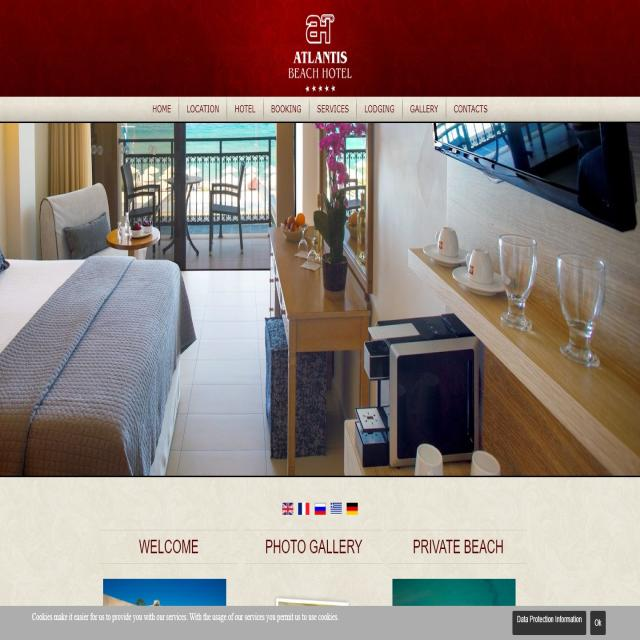button: (513, 612, 586, 636), (180, 96, 227, 121), (308, 98, 356, 122), (356, 98, 402, 121), (402, 98, 446, 122), (264, 98, 308, 121), (447, 98, 491, 120), (227, 98, 263, 121), (147, 97, 178, 121), (589, 608, 607, 634)
heading: (259, 529, 370, 565), (405, 530, 514, 565), (132, 525, 208, 563), (289, 46, 354, 82)
iframe: (1, 607, 640, 640)
image: (1, 122, 640, 478), (104, 579, 226, 608), (392, 578, 516, 605), (279, 492, 363, 520), (301, 11, 338, 46)
